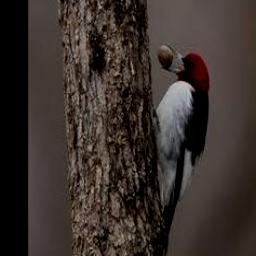Woodpecker: (153, 44, 210, 256)
